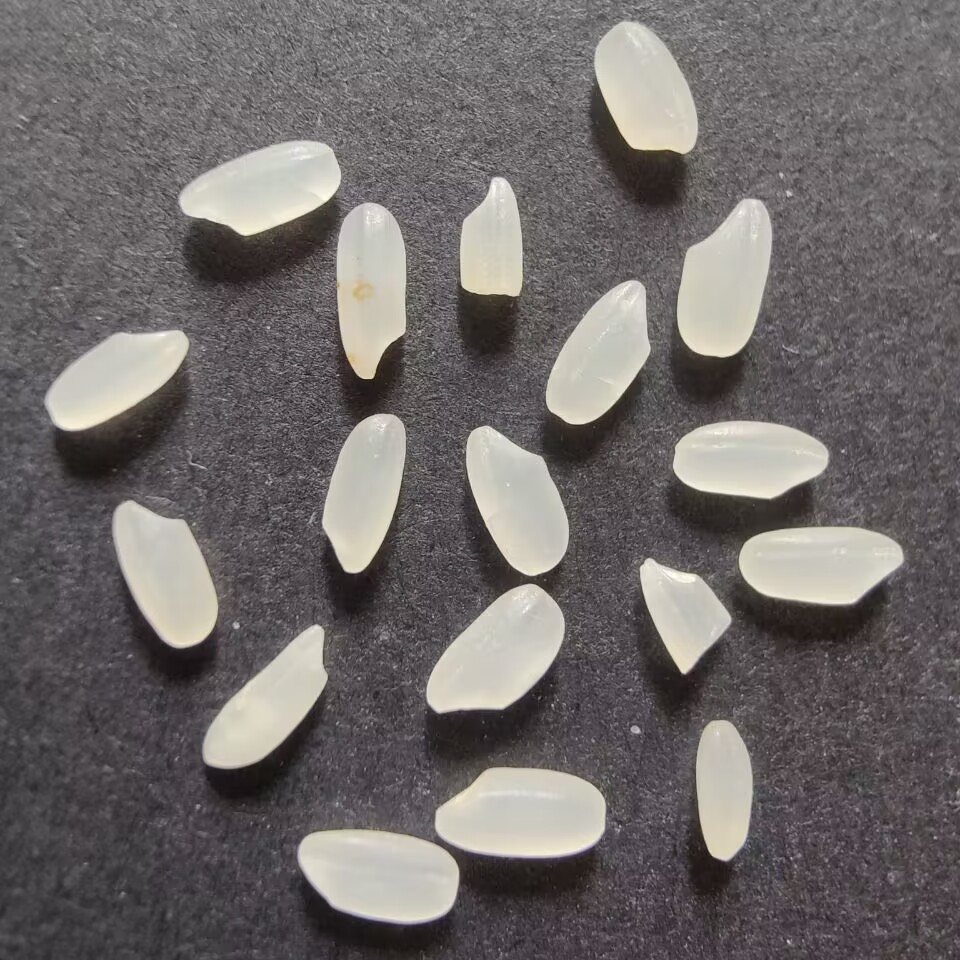broken: (635, 551, 736, 681), (453, 169, 534, 300)
rice: (420, 579, 573, 726), (199, 619, 336, 773), (421, 760, 613, 860), (106, 495, 226, 653), (169, 135, 346, 240), (461, 417, 572, 580), (37, 324, 194, 436), (291, 827, 463, 929), (541, 275, 656, 427), (673, 192, 778, 358), (593, 15, 702, 163), (314, 410, 408, 575), (736, 522, 907, 612), (334, 199, 415, 383), (666, 416, 827, 505), (693, 709, 758, 866)
